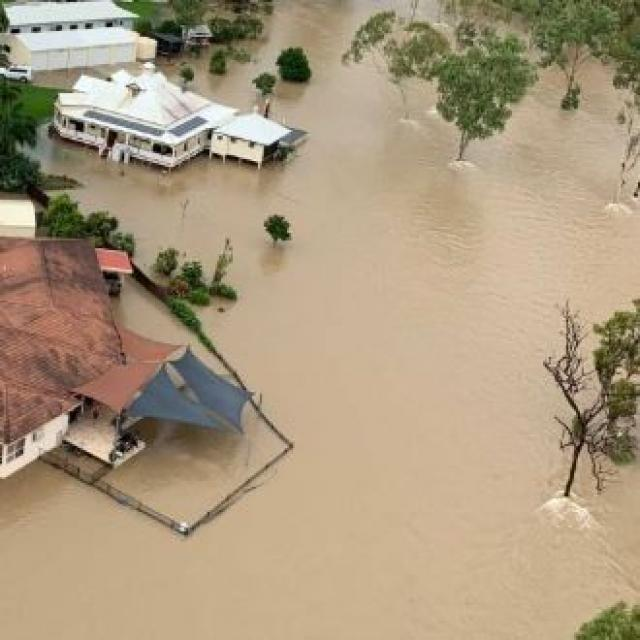flood: (0, 0, 640, 640), (84, 403, 292, 536), (112, 279, 239, 384)
house: (0, 231, 154, 483), (57, 74, 232, 166), (7, 28, 140, 78), (207, 110, 305, 176), (0, 0, 138, 39), (558, 350, 604, 414), (0, 188, 39, 242)
